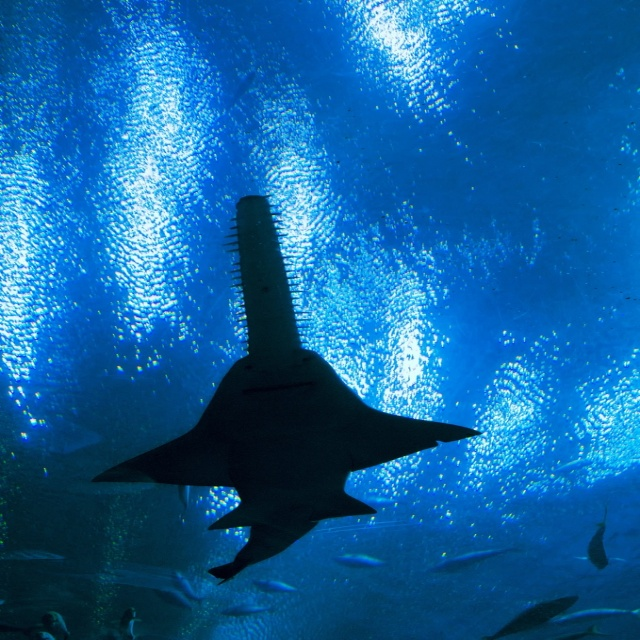Fish: (89, 227, 454, 589), (483, 594, 580, 640), (435, 552, 527, 573), (552, 606, 638, 626), (171, 573, 212, 604), (587, 522, 610, 576), (336, 551, 390, 569), (118, 607, 144, 640), (45, 608, 68, 640), (572, 628, 625, 640), (252, 578, 293, 593), (220, 606, 275, 616), (39, 632, 56, 640)
